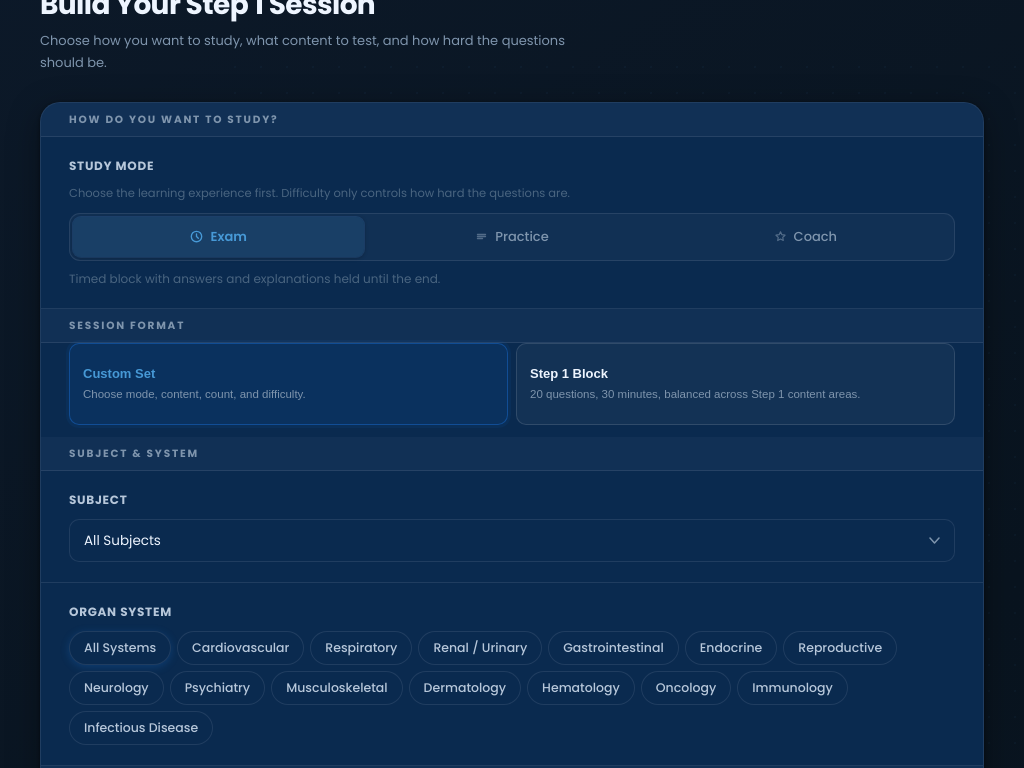
Scenario: QuizBuilder current USMLE Step 1 preset › exposes a reachable 20-question, 30-minute blueprint-balanced preset
(page scrolled)
Step 1. Click the button "Step 1 Block" → (569, 373), box [516,343,955,425]
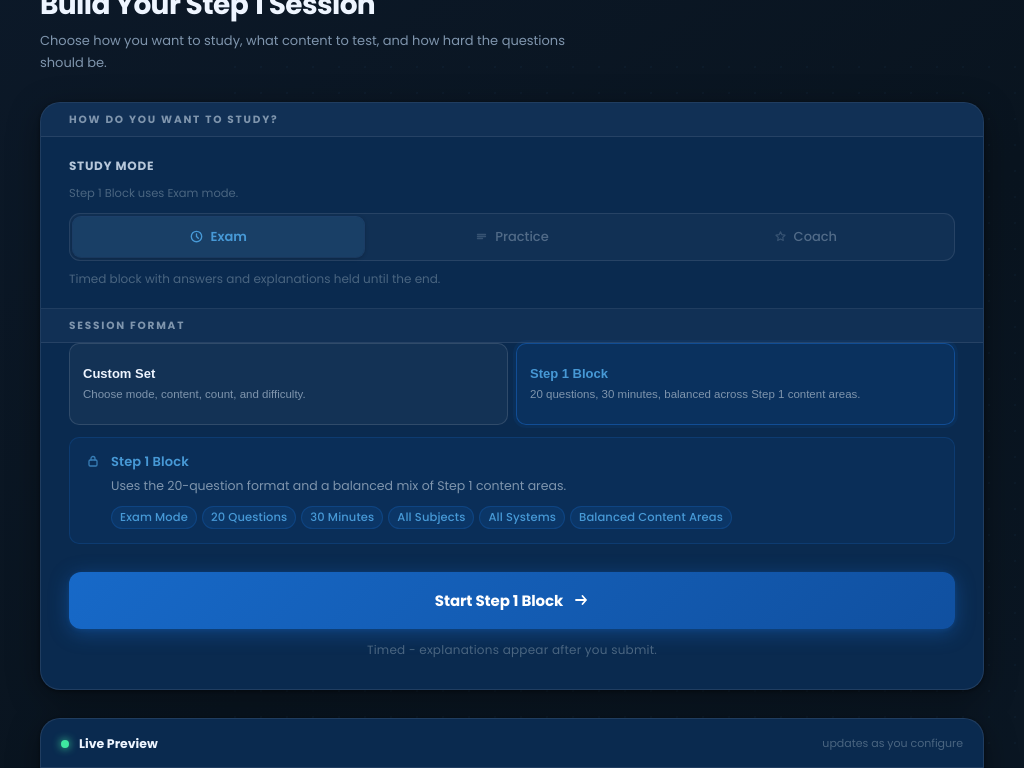
Result: the text "Uses the 20-question format and a balanced mix of Step 1 content areas." is shown at [111,477,566,494]
Result: the text "20 Questions" is shown at [202,506,296,529]
Result: the text "30 Minutes" is shown at [301,506,383,529]
